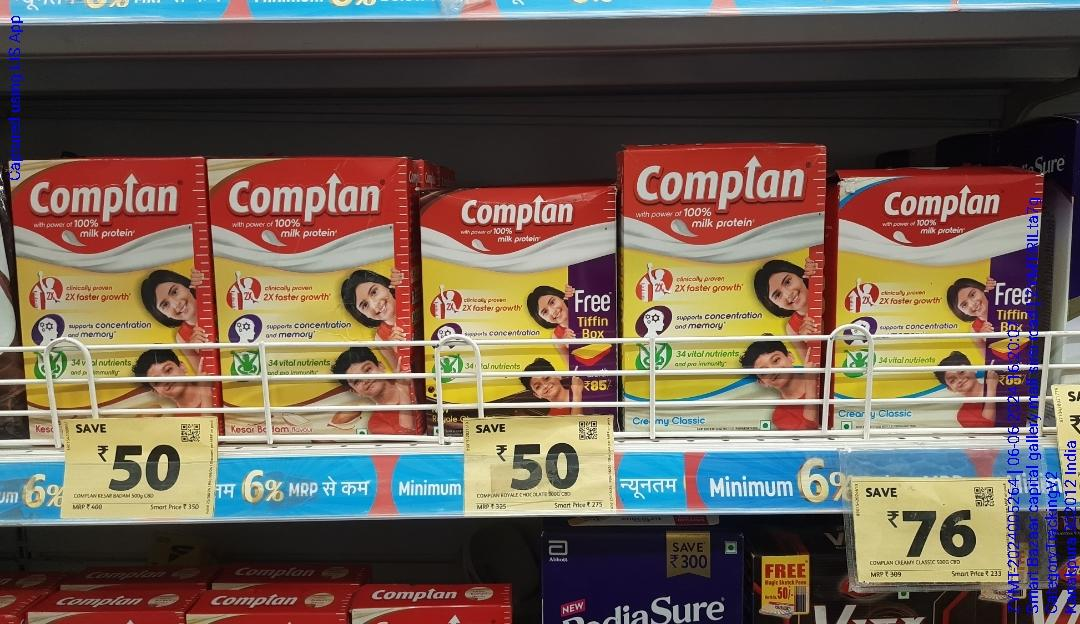COMPLAN_CHOCOLATE_500_GMS_PACK: (424, 189, 613, 437)
COMPLAN_CREAMY_CLASSIC_500_G_PACK: (839, 177, 1041, 441)
COMPLAN_KESAR_BADAM_500_GMS_PACK: (212, 158, 404, 437), (11, 162, 208, 416)
